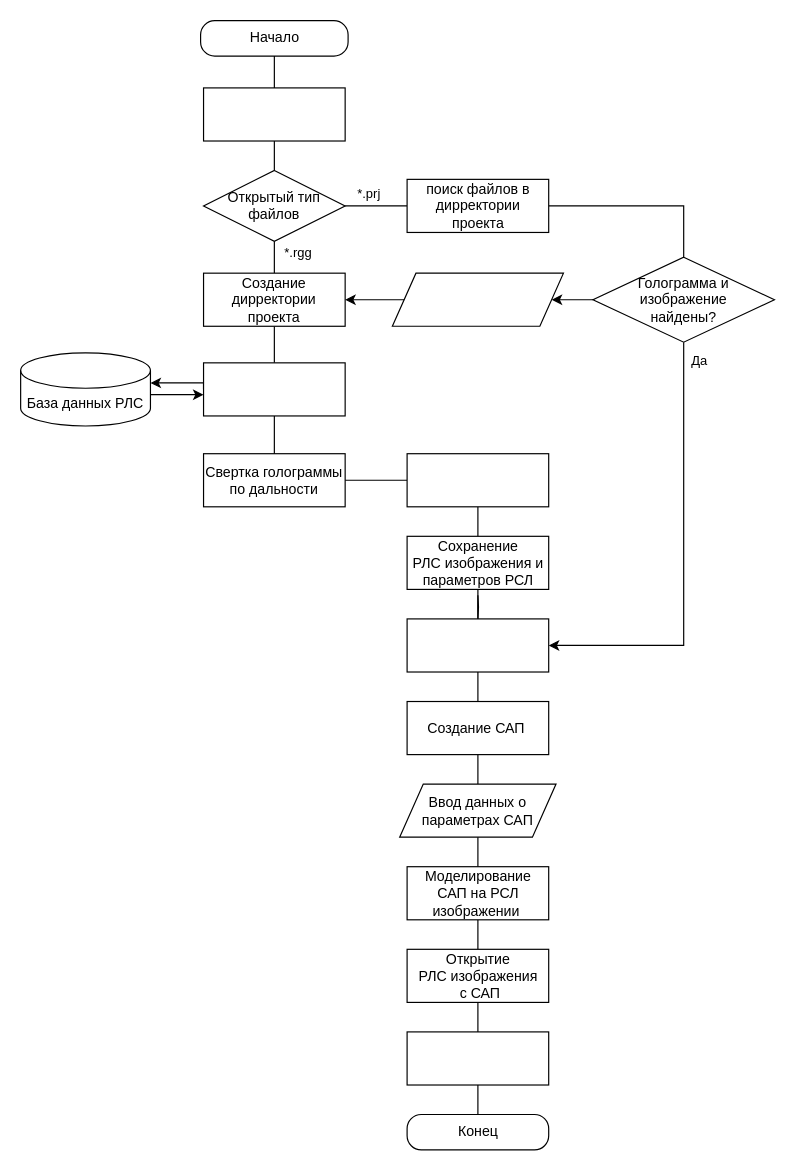
The diagram is 795 pixels wide and 1171 high, and some of its shapes have lost their labels. The shapes that lost their labels are listed below. From the top down, each one's box as (x1, y1, x2, y2) in pixels, then its label:
(202, 87, 345, 141): Открытие файла: *.rgg; *.prj
(391, 272, 563, 326): Ввод данных о расположении файла голограммы
(202, 362, 345, 416): Выбор РЛС
(406, 453, 549, 507): Свертка голограммы по азимуту
(406, 618, 549, 672): Открытие РЛС изображения
(406, 1031, 549, 1085): Сохранение РЛС изображения с САП
